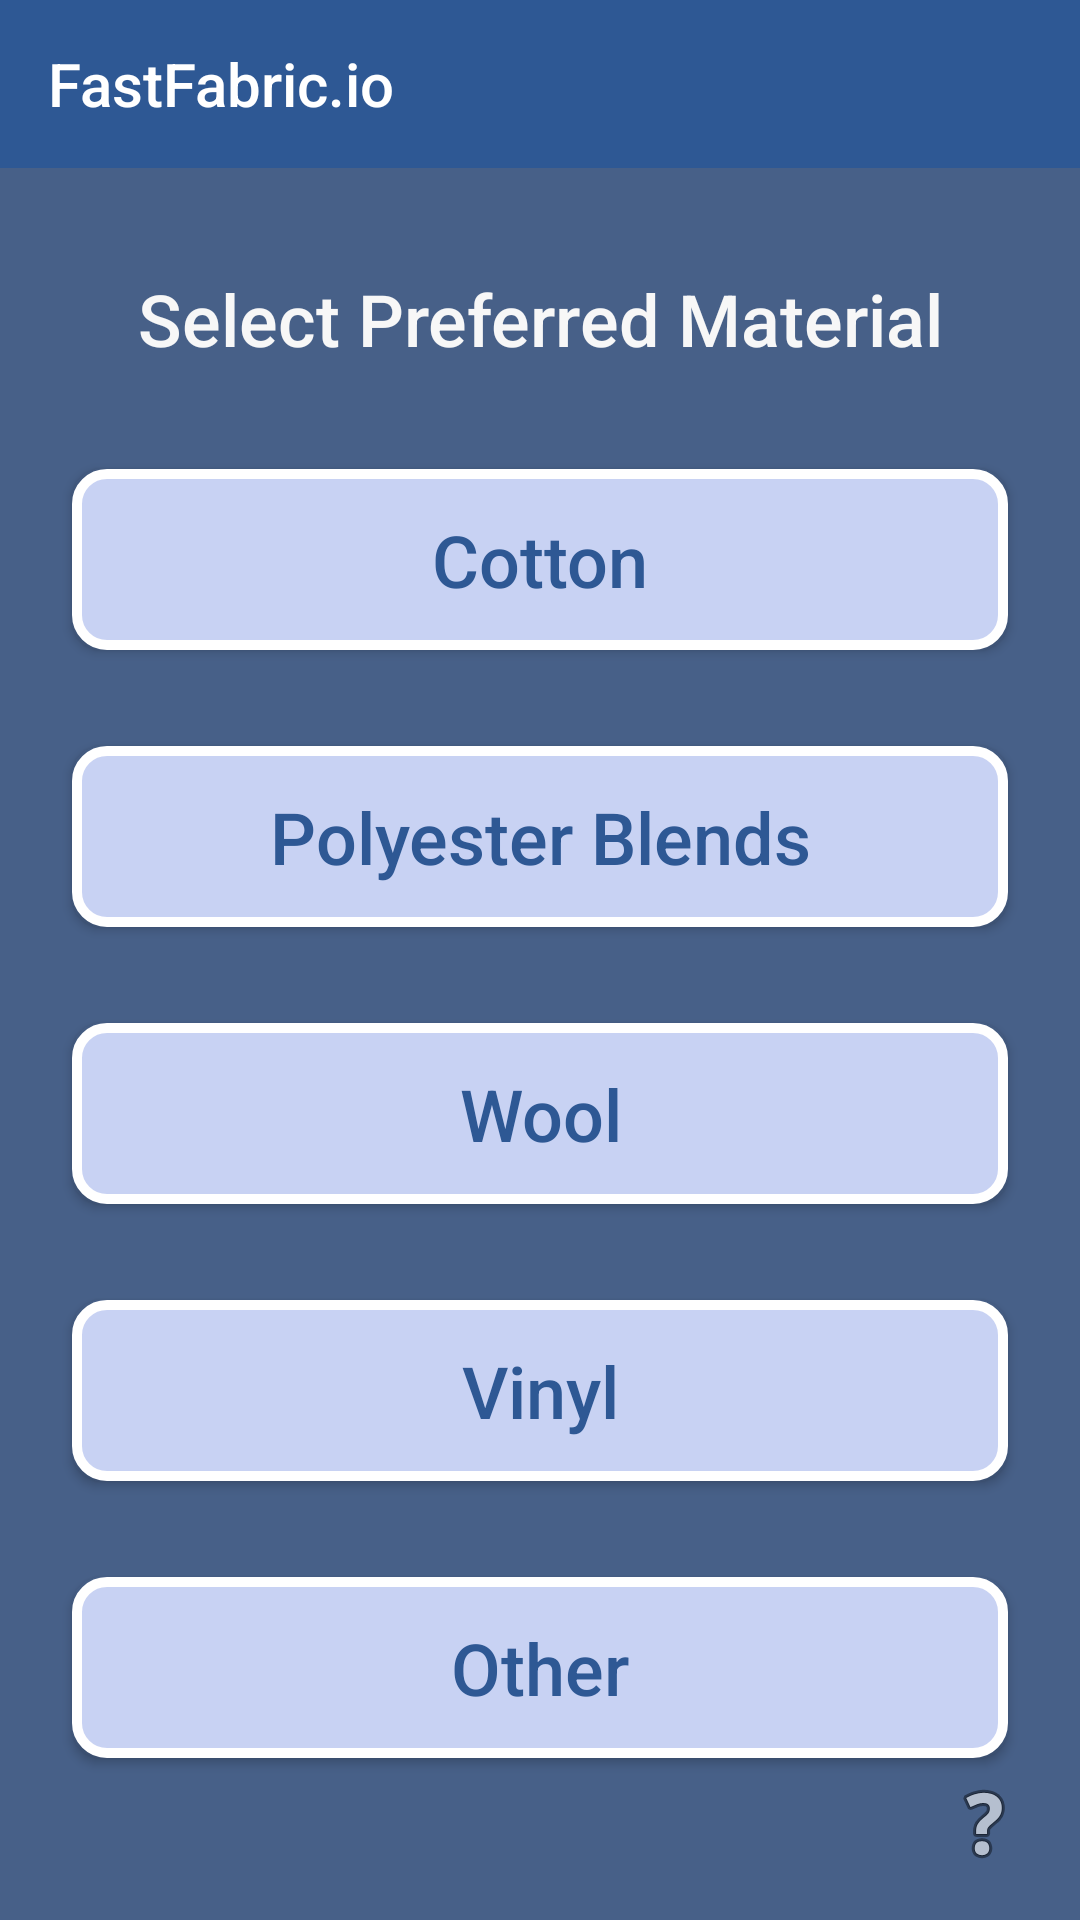

Icon bounding boxes for this 1080 × 1920 phone screenshot, format bbox=(x1, y1, x2, y2):
help: bbox=(963, 1790, 1005, 1858)
